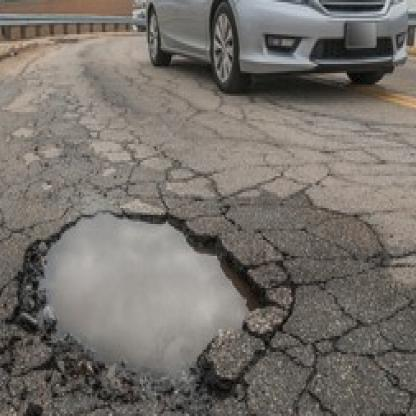pothole: (18, 204, 275, 396)
